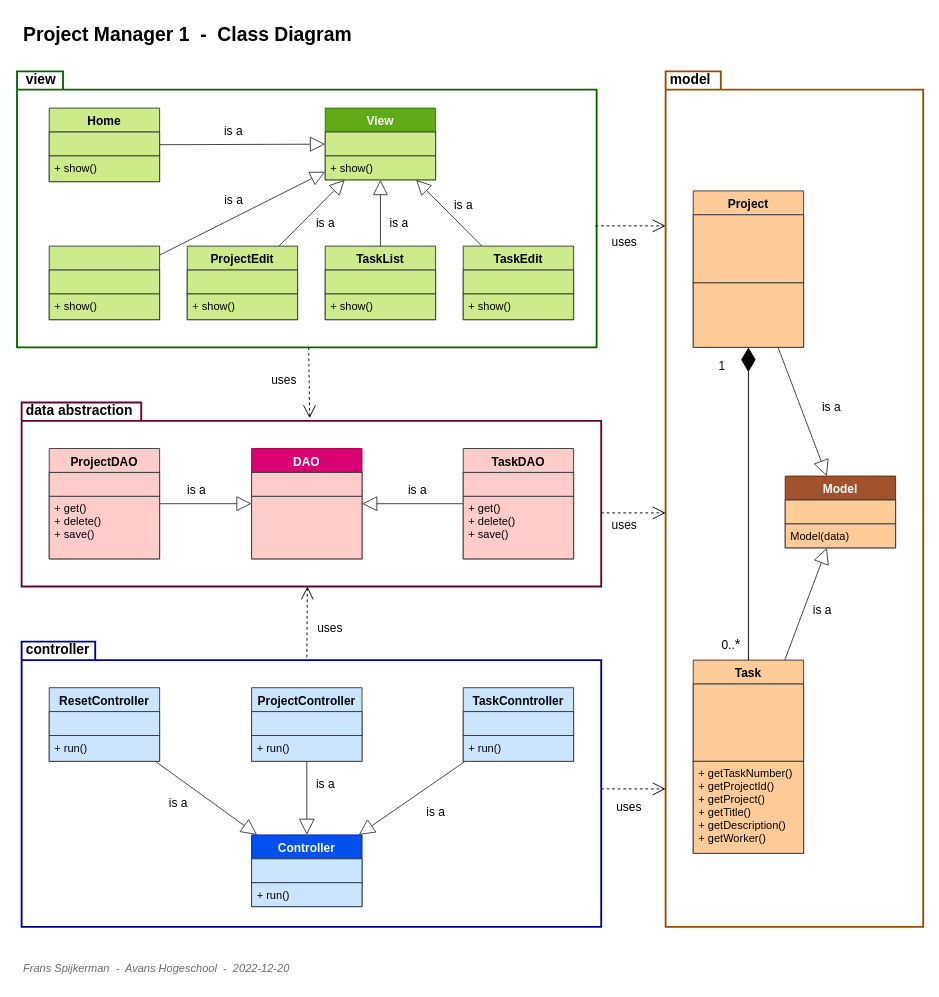
Some shapes in this 939 by 997 pixel diagram are drawn without their labels. The shapes that lost their labels are listed below. From the top down, each one's box as (x1, y1, x2, y2) in pixels, then its label:
(692, 214, 804, 283): - projectID - title - description - owner
(48, 245, 160, 320): ProjectList
(692, 282, 804, 347): + getProjectID() + getTitle() + getDescription + getOwner()
(20, 401, 602, 587): package
(251, 495, 362, 559): + startListSql() + getObjectSql() + hasNext() + getNext()
(692, 683, 804, 761): - taskNumber - title - description - worker - status
